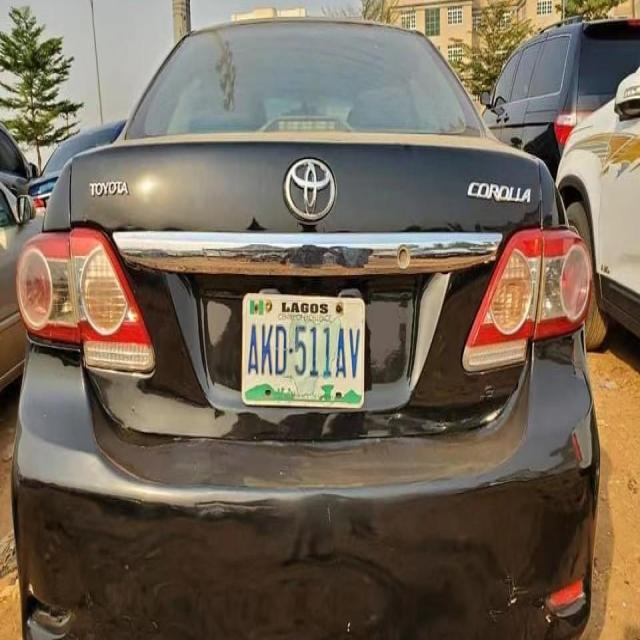Nigerian License Plate - vdataset benjamin-daria: (242, 292, 364, 408)
